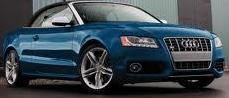front_view: (109, 30, 226, 84)
headlight: (114, 31, 161, 51)
side_glass: (26, 6, 79, 27)
